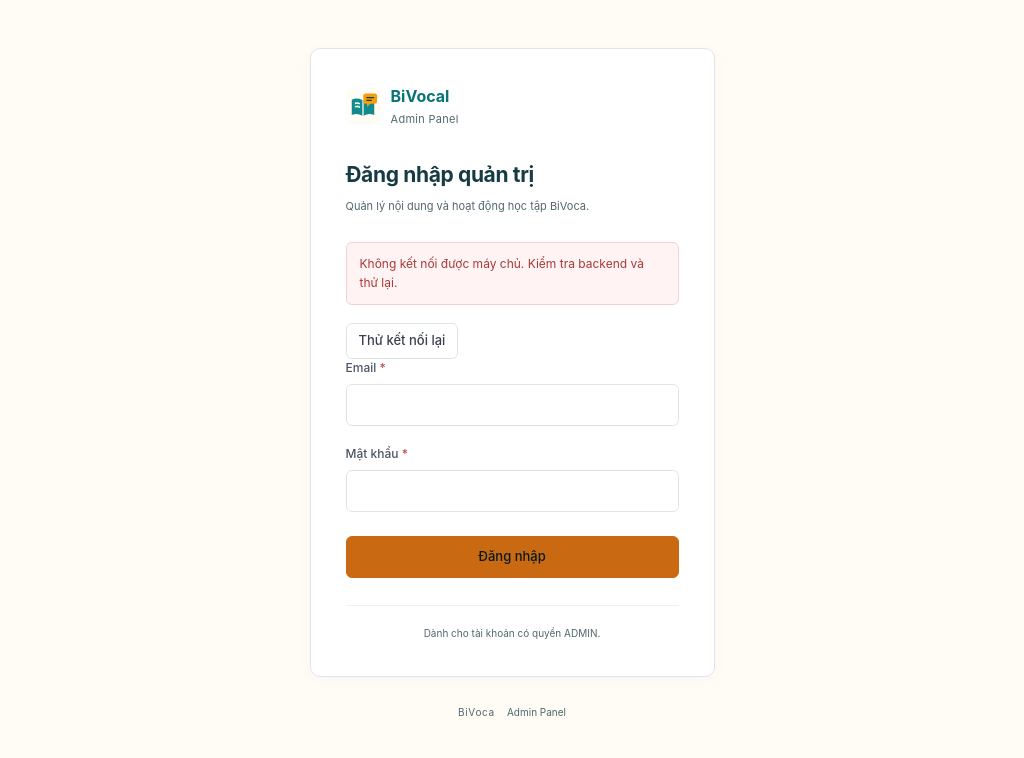
Scenario: Admin routes and real UI contracts against isolated fetch fixtures › temporary restore failure retains session and retry returns to dashboard without login
This screenshot has width=1024, height=758.
expect the message "Không kết nối được máy chủ. Kiểm tra backend và thử lại." is shown: met, box [346, 242, 678, 305]
Click the button "Thử kết nối lại" at (402, 340), box [346, 322, 458, 358]
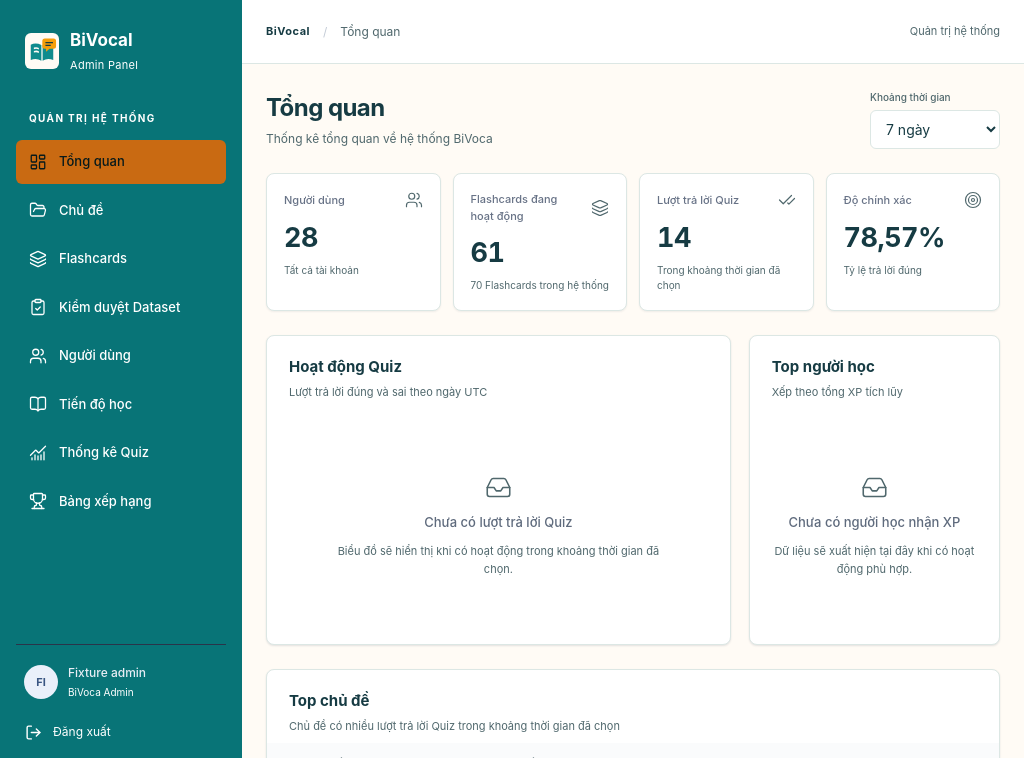
expect the heading "Tổng quan" is shown: met, box [266, 93, 385, 122]
